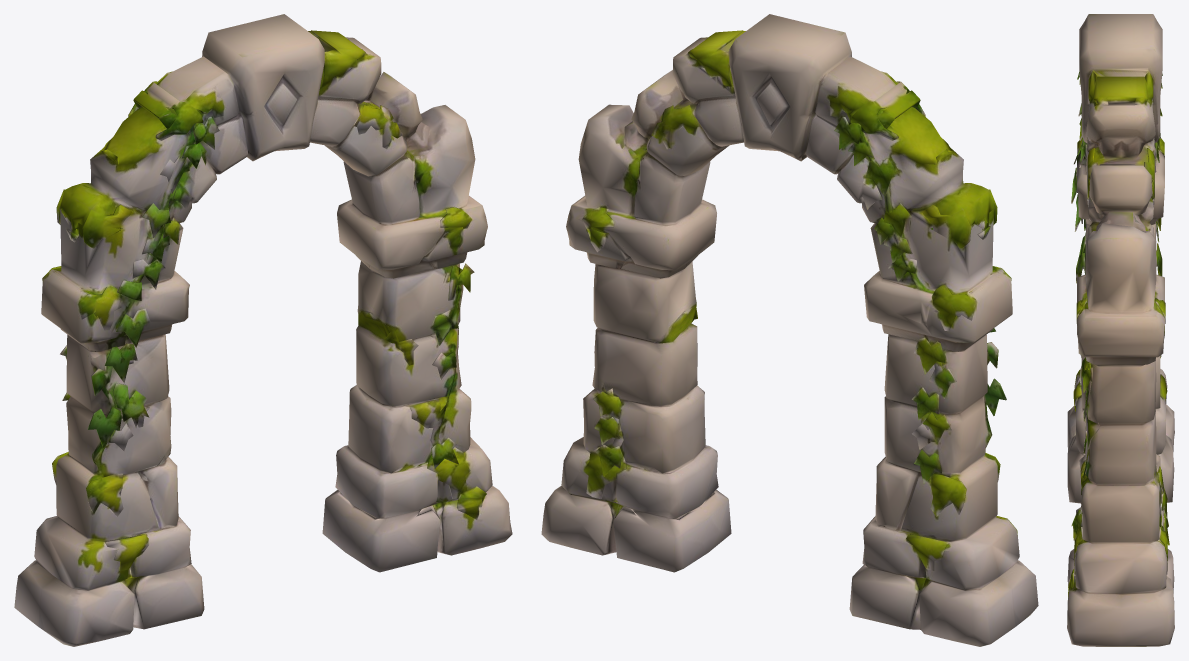
File: kemer.glb
3 views of the same model, side by side, from view 1: azimuth 30°, elevation 25°; view 2: azimuth 150°, elevation 25°; view 3: azimuth 270°, elevation 25° (orthographic). The views are drawn at different scales.
Visible parts, largest first — view 1: material; view 2: material; view 3: material.
Boxes of the visible parts, left/top/right/bottom form: material: left=14, top=14, right=512, bottom=646; material: left=541, top=14, right=1038, bottom=646; material: left=1067, top=14, right=1174, bottom=646.
Bounding box in the file's own units: 1.66 × 1.9 × 0.3616.
Materials: 1 (1 with a texture image).
